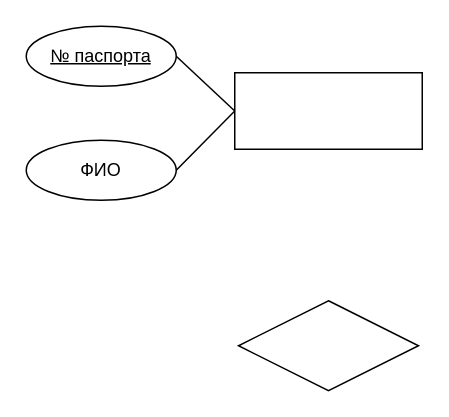
The diagram is 449 pixels wide and 417 high, and some of its shapes have lost their labels. Here are the shapes that lost their labels. From the top down, the centre of each, then its label:
point 327,110: СТУДЕНТ
point 327,345: Состав группы
